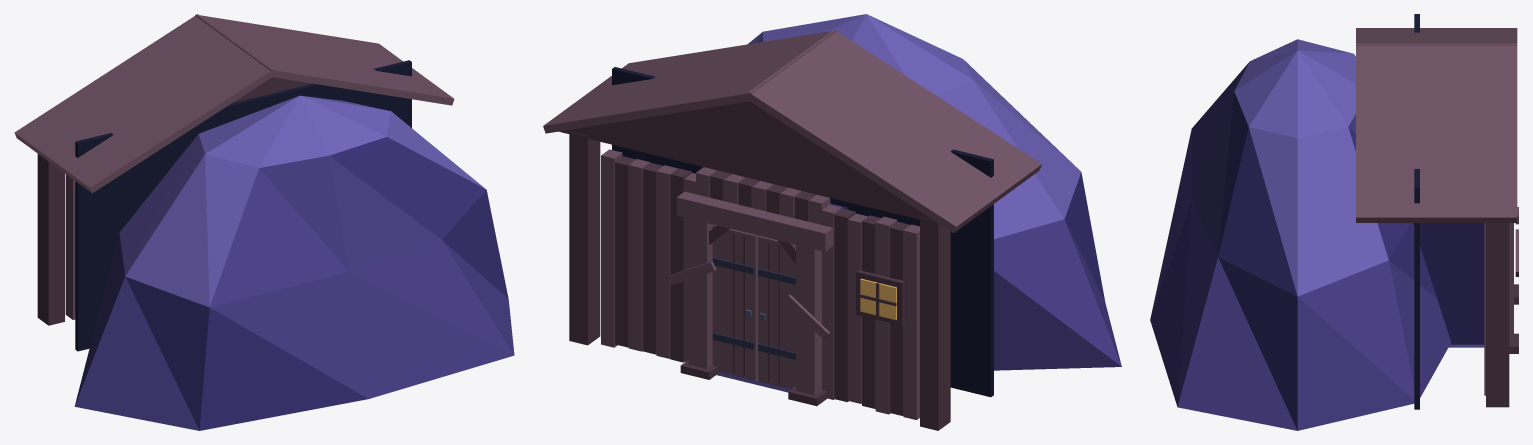
Rendered from Mine_Door_Wood_Closed.obj.
3 renders of one model, left to right at view 1: azimuth 30°, elevation 25°; view 2: azimuth 150°, elevation 25°; view 3: azimuth 270°, elevation 25°, orthographic. The views are drawn at different scales.
Visible parts, largest first — view 1: Mine_Door_Wood_Closed; view 2: Mine_Door_Wood_Closed; view 3: Mine_Door_Wood_Closed.
Boxes of the visible parts, x1,y1,x2,y2 form: Mine_Door_Wood_Closed: (14,14,514,430); Mine_Door_Wood_Closed: (543,14,1121,430); Mine_Door_Wood_Closed: (1150,14,1518,430).
Bounding box in the file's own units: 9.61 × 5.61 × 6.63.
